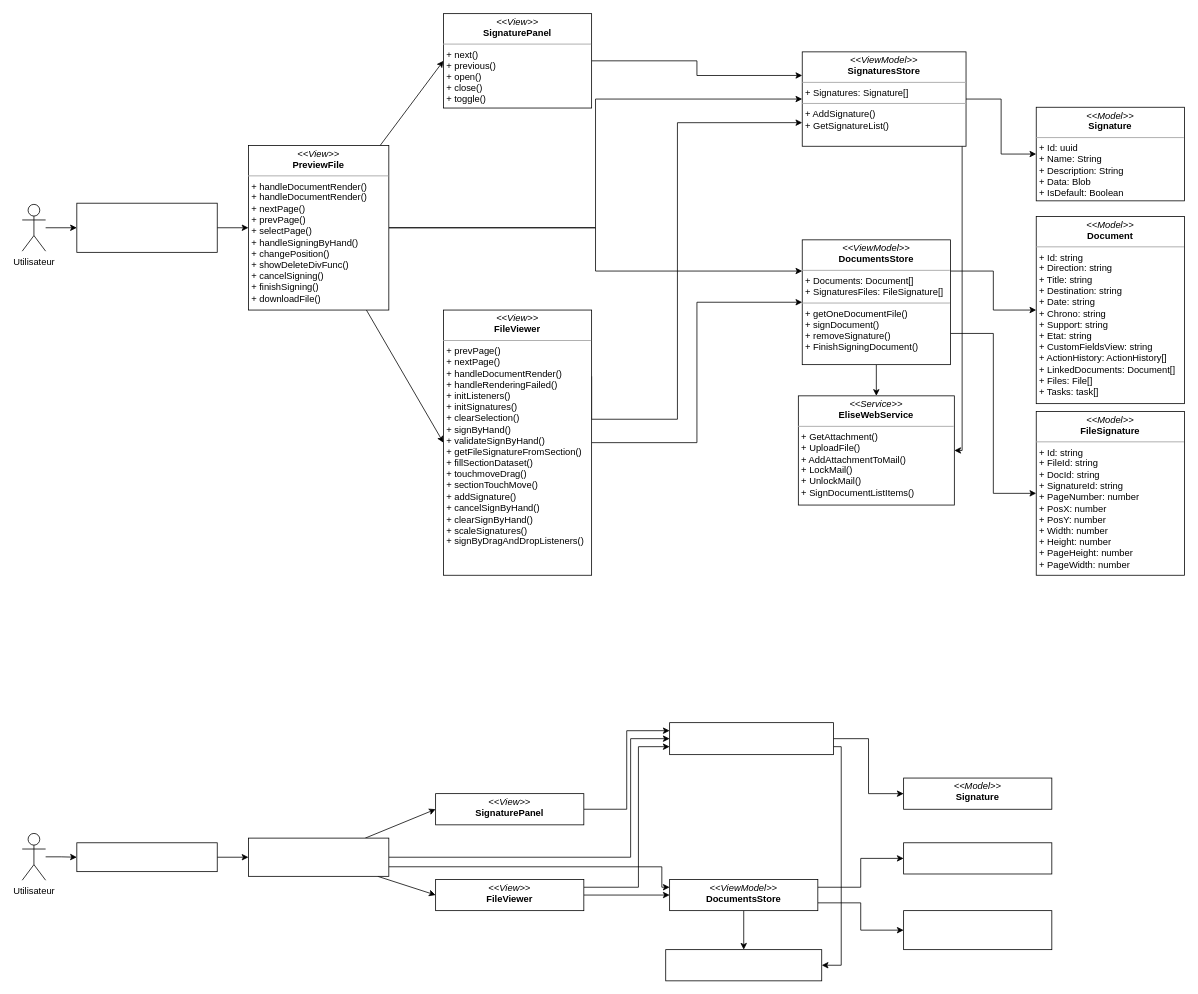
The diagram is 1198 pixels wide and 994 high, and some of its shapes have lost their labels. Here are the shapes that lost their labels. From the top down, the centre of each, then its label:
(x=146, y=227): <<View>> FilesPage + CliqueFichier()
(x=751, y=738): <<ViewModel>> SignaturesStore
(x=146, y=857): <<View>> FilesPage
(x=318, y=856): <<View>> PreviewFile
(x=977, y=858): <<Model>> Document
(x=977, y=930): <<Model>> FileSignature
(x=743, y=965): <<Service>> EliseWebService
